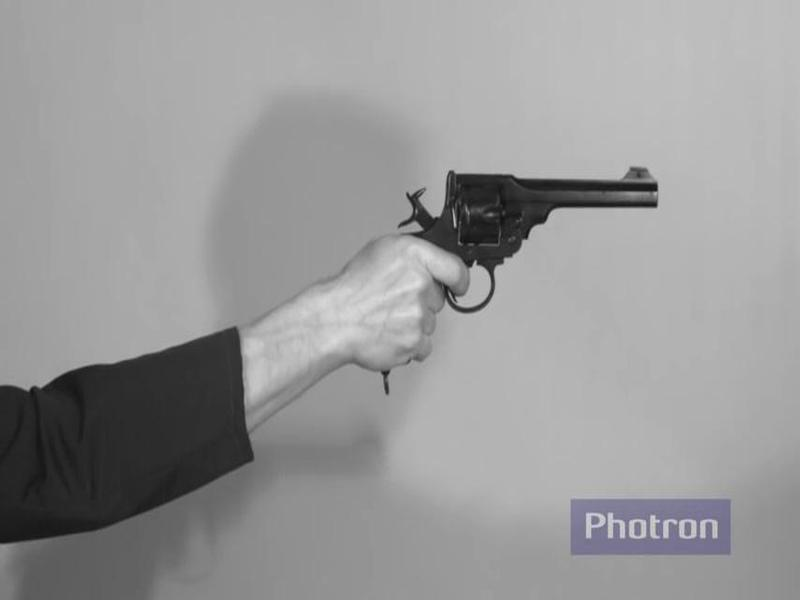Revolver: (367, 155, 676, 392)
